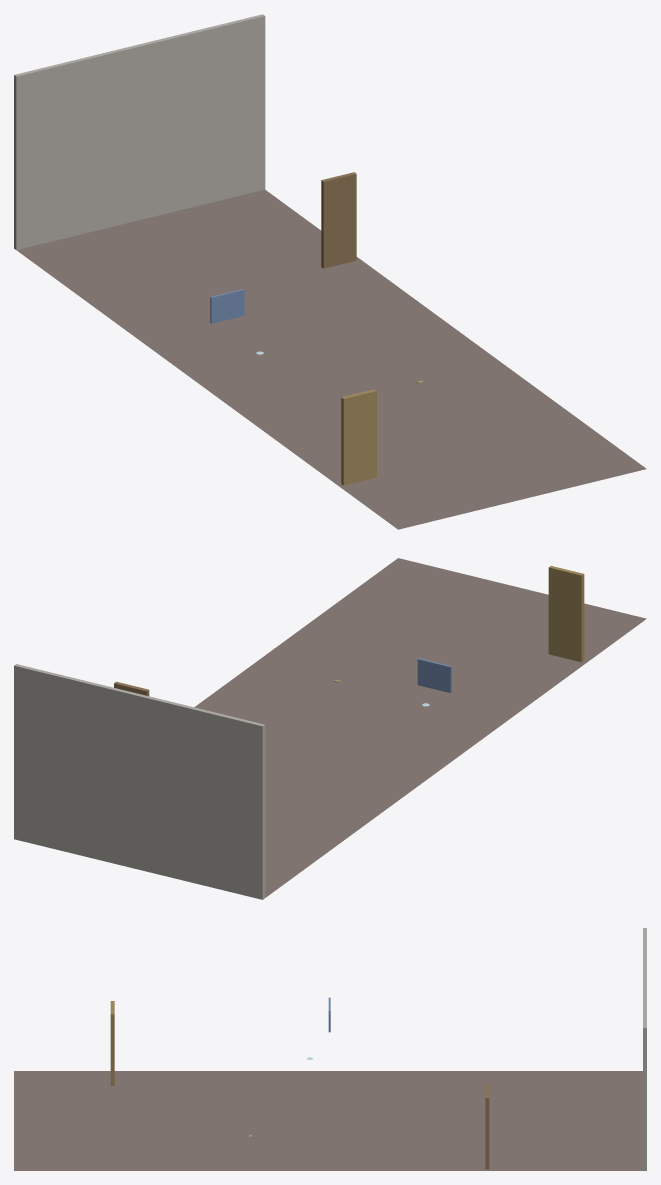
The model's file is hallway.gltf.
3 renders of one model, top to bottom at view 1: azimuth 30°, elevation 25°; view 2: azimuth 150°, elevation 25°; view 3: azimuth 270°, elevation 25°, orthographic. The views are drawn at different scales.
Visible parts, largest first — view 1: HallwayFloor, HallwayEndWall, LockedDoor, DoorToStudy, Painting; view 2: HallwayFloor, HallwayEndWall, DoorToStudy, Painting; view 3: HallwayFloor, HallwayEndWall, LockedDoor, DoorToStudy.
Part boxes in pixels (x1=…): HallwayFloor: x1=16, y1=189, x2=646, y2=529; HallwayEndWall: x1=14, y1=14, x2=265, y2=249; LockedDoor: x1=321, y1=172, x2=356, y2=268; DoorToStudy: x1=341, y1=389, x2=376, y2=485; Painting: x1=210, y1=289, x2=244, y2=323; HallwayFloor: x1=194, y1=558, x2=646, y2=897; HallwayEndWall: x1=14, y1=664, x2=265, y2=899; DoorToStudy: x1=548, y1=566, x2=584, y2=662; Painting: x1=417, y1=658, x2=451, y2=693; HallwayFloor: x1=14, y1=1071, x2=642, y2=1170; HallwayEndWall: x1=643, y1=928, x2=646, y2=1170; LockedDoor: x1=485, y1=1084, x2=489, y2=1169; DoorToStudy: x1=110, y1=1001, x2=114, y2=1085.
Bounding box in the file's own units: 6 × 4 × 16.05.
